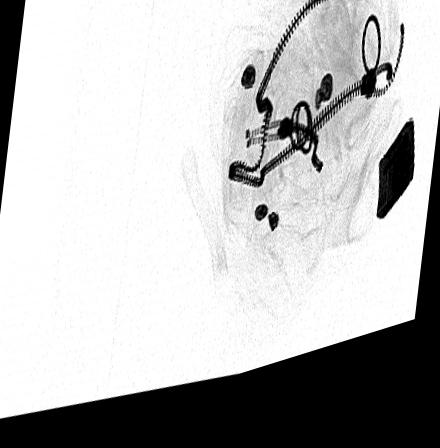Lighter: (374, 144, 414, 242)
